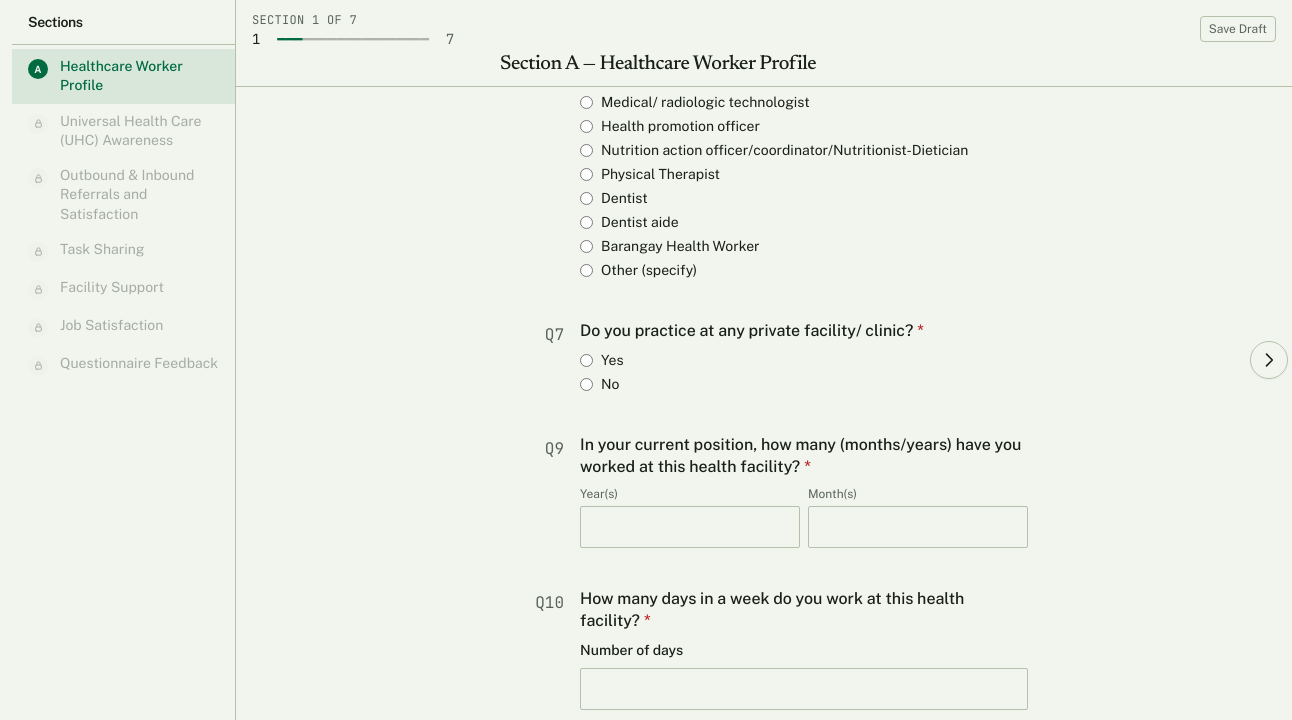
Test: <MultiSectionForm> › applies intra-section skip logic — Q8 appears when Q7 = Yes
(page scrolled)
Check: the field labelled "divide your time" is not shown
Click the radio button named "Yes".
click(586, 360)  # box x1=580 y1=354 x2=593 y2=366
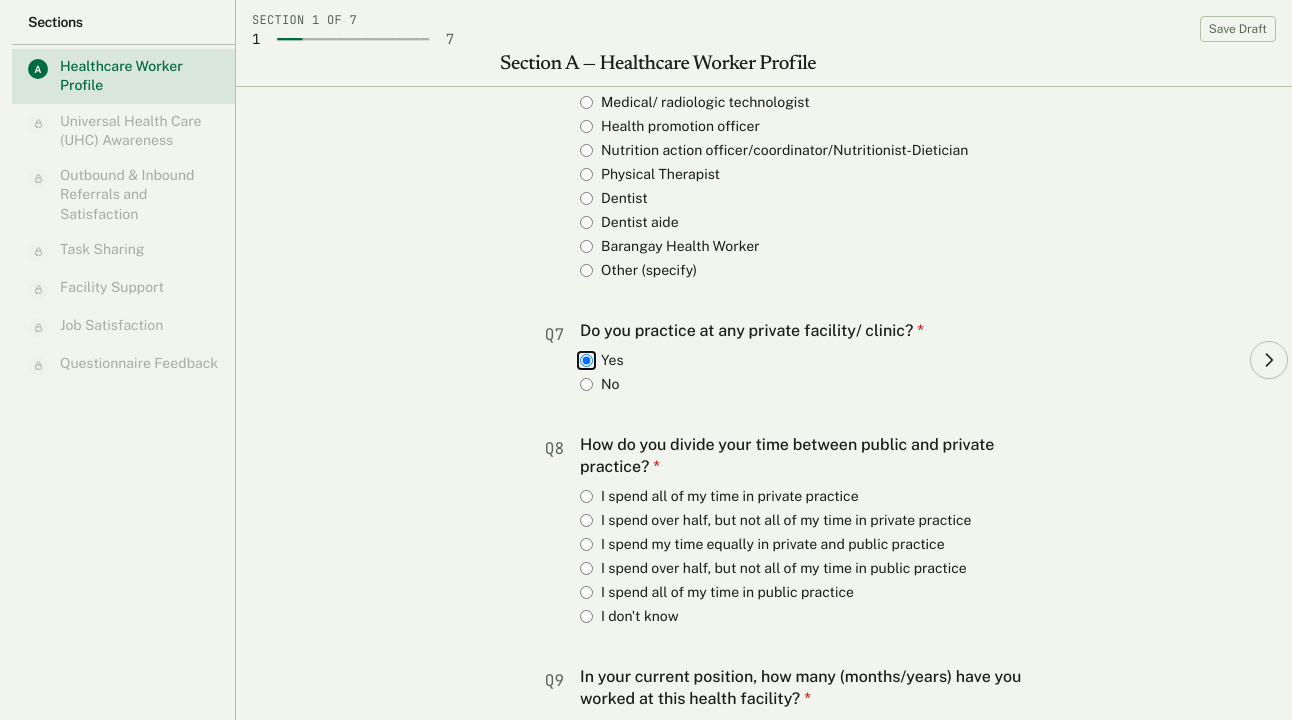
Check: the radio button labelled "divide your time" is shown, box x1=580 y1=490 x2=593 y2=502
